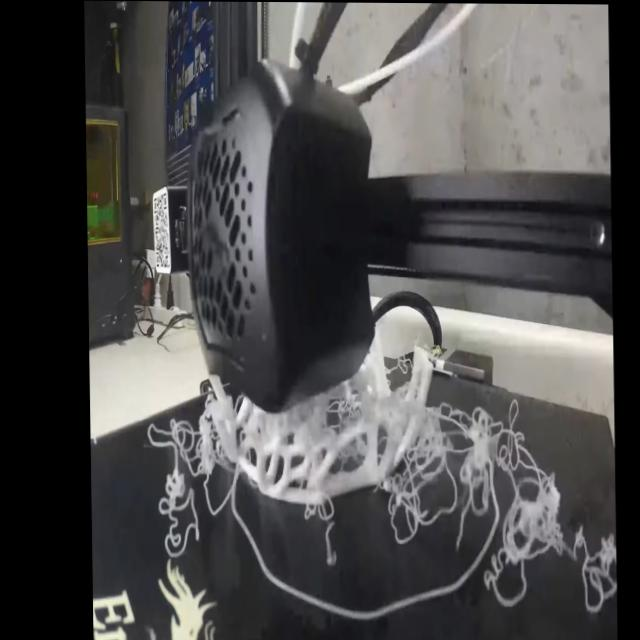spaghetti: (413, 396, 615, 621), (130, 424, 253, 561)
